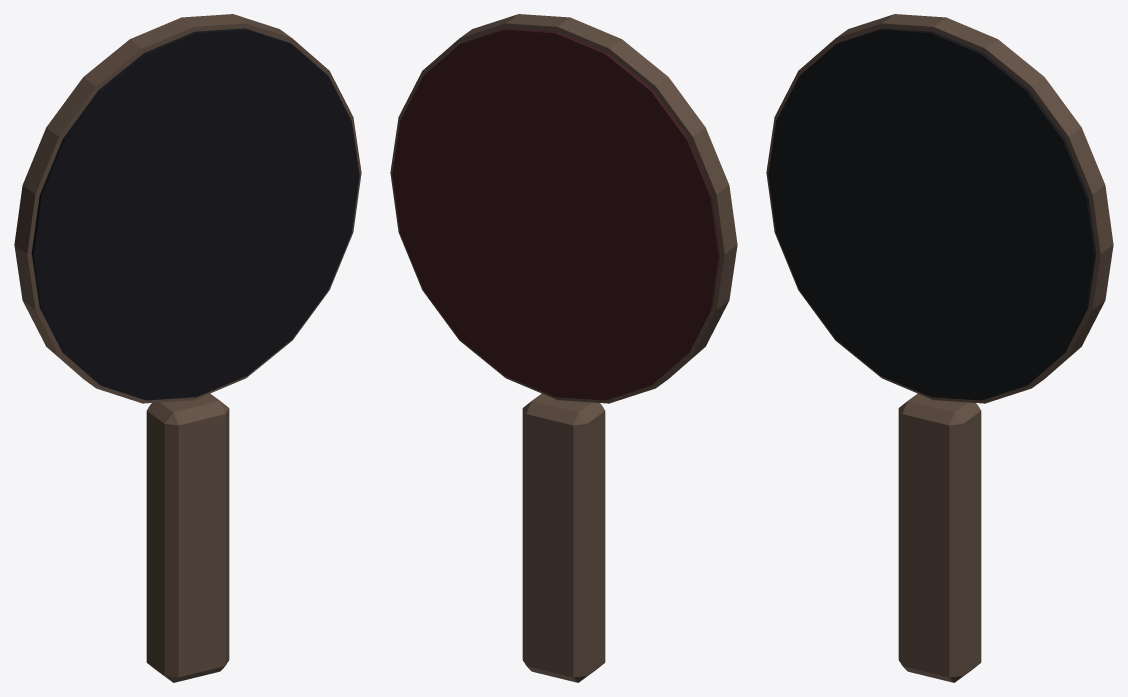
The model's file is paddle.glb.
3 views of the same model, side by side, from view 1: azimuth 30°, elevation 25°; view 2: azimuth 150°, elevation 25°; view 3: azimuth 330°, elevation 25° (orthographic).
Visible parts, largest first — view 1: paddle_rubber_black, paddle_wood; view 2: paddle_rubber_red, paddle_wood; view 3: paddle_rubber_black, paddle_wood.
Boxes of the visible parts, box(x1,y1,x2,y2) form: paddle_rubber_black: box(31, 28, 359, 400); paddle_wood: box(14, 14, 361, 682); paddle_rubber_red: box(392, 28, 720, 400); paddle_wood: box(390, 14, 737, 682); paddle_rubber_black: box(768, 28, 1096, 400); paddle_wood: box(766, 14, 1113, 682).
Bounding box in the file's own units: 0.15 × 0.278 × 0.022.
